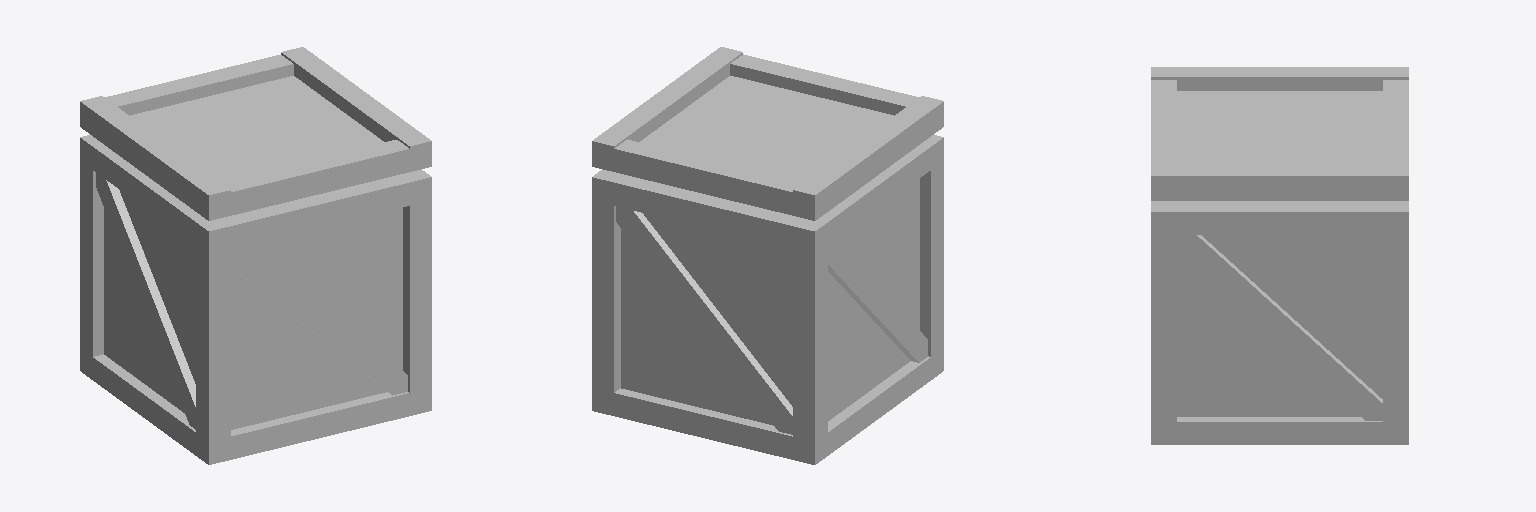
Rendered from Crate2.obj.
The picture shows the model from 3 angles: view 1: azimuth 30°, elevation 25°; view 2: azimuth 150°, elevation 25°; view 3: azimuth 270°, elevation 25°; orthographic projection.
Parts seen in each view (by area): view 1: Crate_2_Body Crate_2, Crate_2 Crate_2_Top; view 2: Crate_2_Body Crate_2, Crate_2 Crate_2_Top; view 3: Crate_2_Body Crate_2, Crate_2 Crate_2_Top.
Boxes of the visible parts, box(x1,y1,x2,y2) form: Crate_2_Body Crate_2: box(80, 135, 431, 464); Crate_2 Crate_2_Top: box(80, 47, 431, 220); Crate_2_Body Crate_2: box(592, 135, 943, 464); Crate_2 Crate_2_Top: box(592, 47, 943, 220); Crate_2_Body Crate_2: box(1151, 201, 1408, 444); Crate_2 Crate_2_Top: box(1151, 67, 1408, 200).
Size of the model in its own units: 1 by 1.15 by 1.